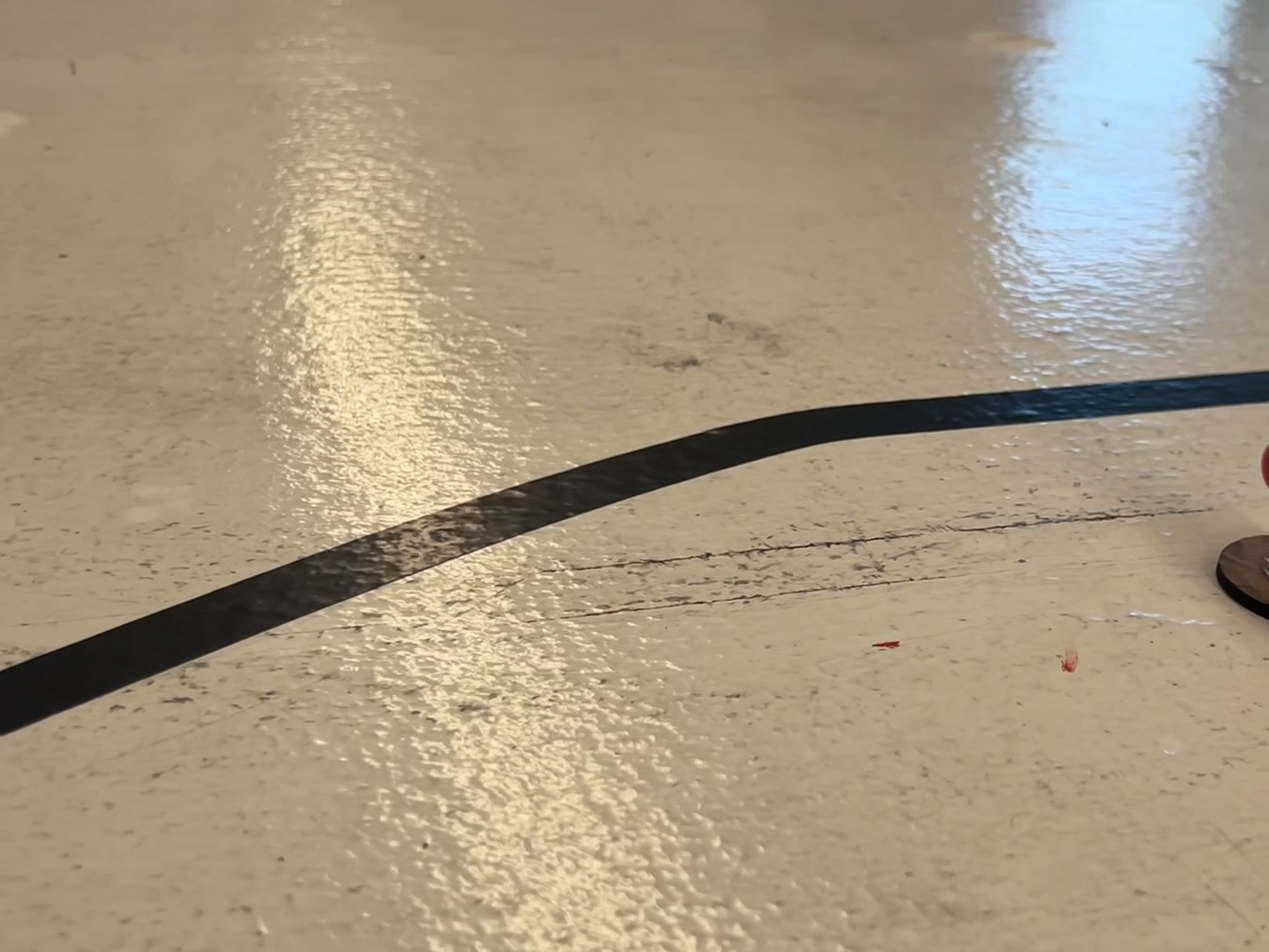teletubby: (1261, 446, 1268, 485)
